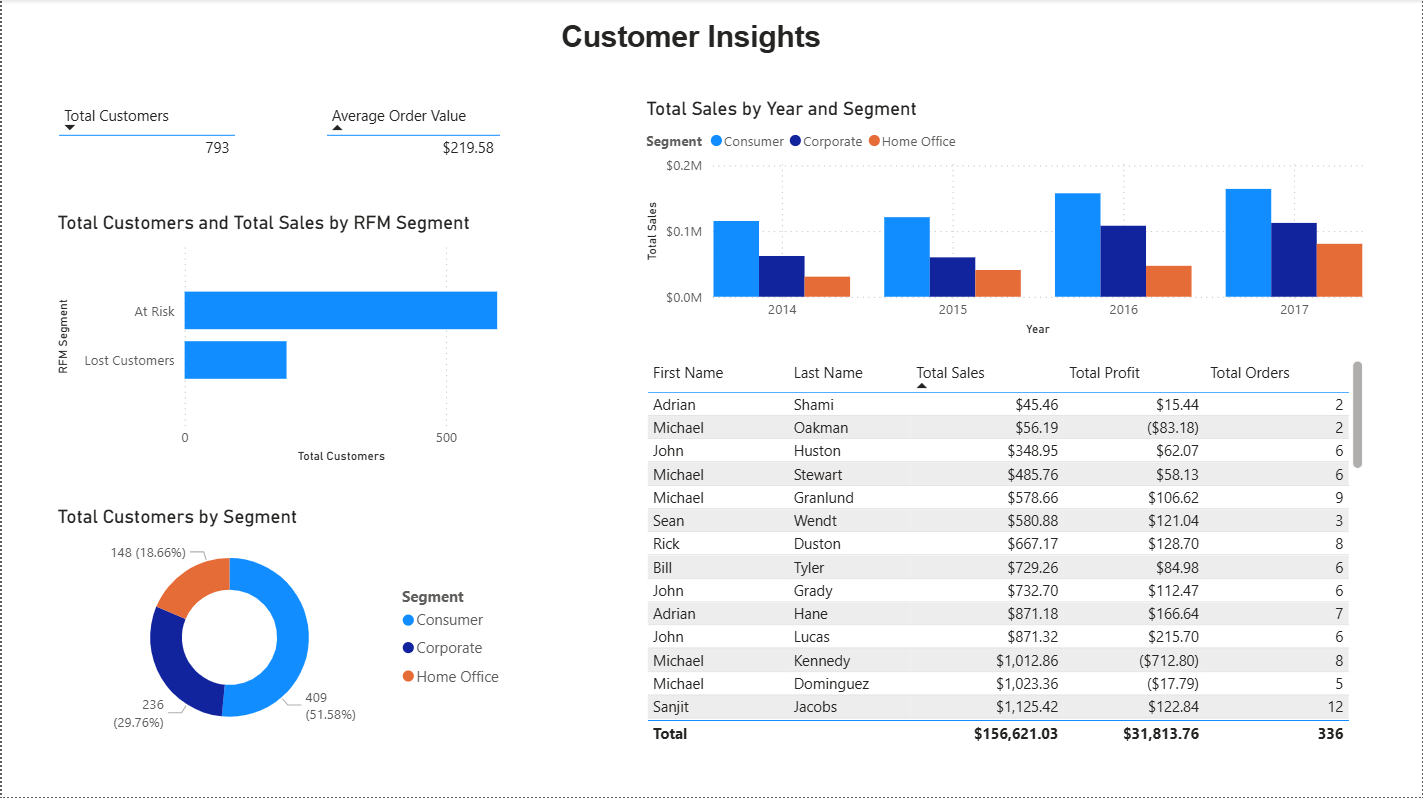

The dashboard page shown, as its layout file describes it:
{"tool":"powerbi","page":{"name":"Customer Insights","canvas":[1280,720],"ordinal":1},"visuals":[{"type":"tableEx","fields":{"Values":["_Measures.Total Customers"]},"box":[45.1,89,179.3,86.5],"z":0},{"type":"tableEx","fields":{"Values":["_Measures.Average Order Value"]},"box":[285.9,89,176.8,89],"z":1000},{"type":"tableEx","fields":{"Values":["DimCustomer.First Name","DimCustomer.Last Name","_Measures.Total Sales","_Measures.Total Profit","_Measures.Total Orders"]},"box":[575.6,321,655.8,354.9],"z":2000},{"type":"clusteredColumnChart","fields":{"Category":["DimDate.Year"],"Y":["_Measures.Total Sales"],"Series":["DimCustomer.Segment"]},"box":[575.6,89,655.8,219.4],"z":3000},{"type":"donutChart","fields":{"Category":["DimCustomer.Segment"],"Y":["_Measures.Total Customers"]},"box":[45.1,456.4,417.6,219.4],"z":4000},{"type":"clusteredBarChart","fields":{"Category":["DimCustomer.RFM Segment"],"Y":["_Measures.Total Customers"]},"box":[45.1,191.9,417.6,232],"z":5000},{"type":"textbox","box":[499.1,15,259.6,60.2],"z":6000}]}

Visuals, with their boxes in screenshot pixels (x1, y1, x2, y2), scaled from the page's 1280x720 canvas onto the 1423x798 screenshot:
tableEx - _Measures.Total Customers: {"left": 50, "top": 99, "right": 249, "bottom": 195}
tableEx - _Measures.Average Order Value: {"left": 318, "top": 99, "right": 514, "bottom": 197}
tableEx - DimCustomer.First Name x DimCustomer.Last Name: {"left": 640, "top": 356, "right": 1369, "bottom": 749}
clusteredColumnChart - DimDate.Year x _Measures.Total Sales: {"left": 640, "top": 99, "right": 1369, "bottom": 342}
donutChart - DimCustomer.Segment x _Measures.Total Customers: {"left": 50, "top": 506, "right": 514, "bottom": 749}
clusteredBarChart - DimCustomer.RFM Segment x _Measures.Total Customers: {"left": 50, "top": 213, "right": 514, "bottom": 470}
textbox: {"left": 555, "top": 17, "right": 843, "bottom": 83}
